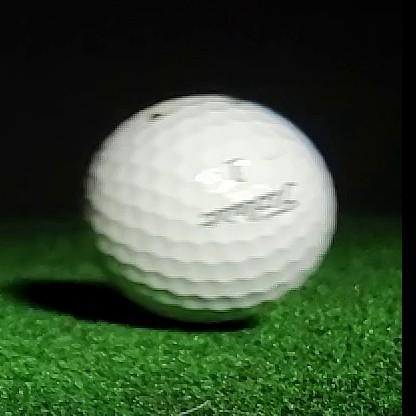golfball: (87, 96, 335, 324)
